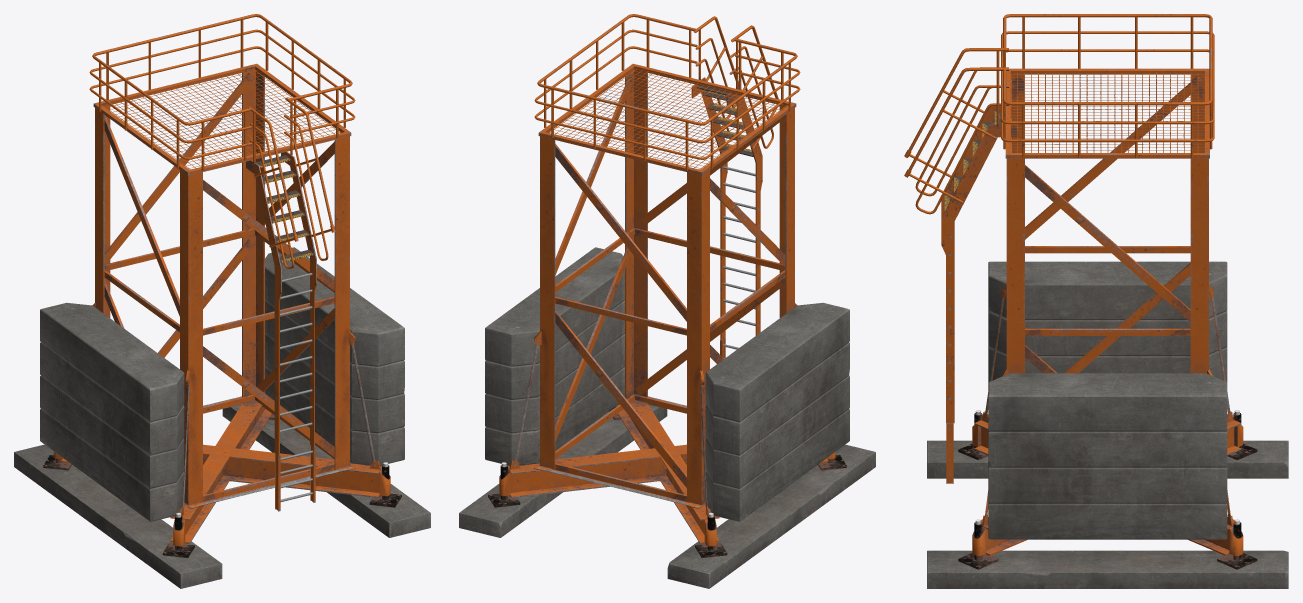
File: CraneBasePrefab_03.fbx
3 views of the same model, side by side, from view 1: azimuth 30°, elevation 25°; view 2: azimuth 150°, elevation 25°; view 3: azimuth 270°, elevation 25° (orthographic). The views are drawn at different scales.
Parts seen in each view (by area): view 1: Crane_Base_Prefab_03_LOD0; view 2: Crane_Base_Prefab_03_LOD0; view 3: Crane_Base_Prefab_03_LOD0.
Part boxes in pixels (box(x1,y1,x2,y2)): Crane_Base_Prefab_03_LOD0: box(14, 14, 430, 588); Crane_Base_Prefab_03_LOD0: box(459, 14, 875, 588); Crane_Base_Prefab_03_LOD0: box(904, 14, 1288, 588).
Size of what is drawn, in the model's own units: 4.81 by 7.73 by 5.8.
